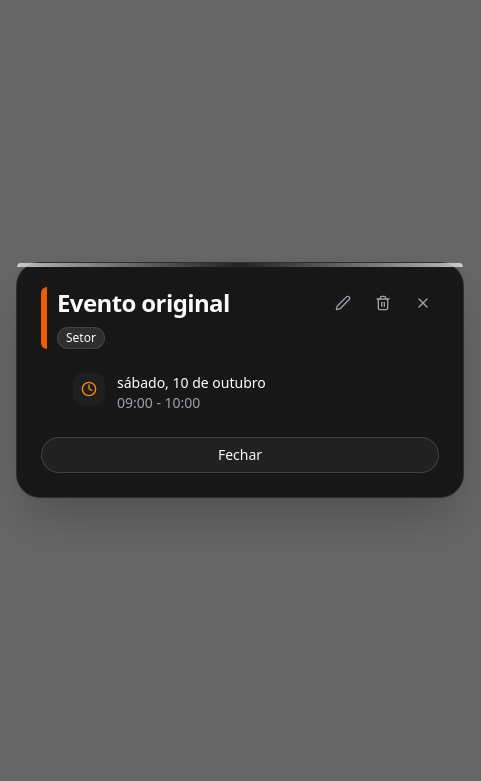
it: allows editing the sector of a sector event
Click the button titled "Editar evento" at (343, 303), box [327,287,359,319]
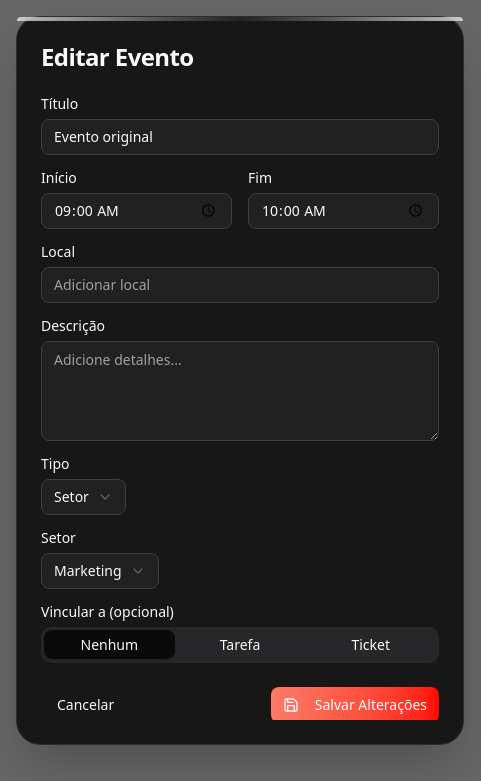
Check: the dropdown named "Setor" reads "Marketing", box [41,552,159,588]
